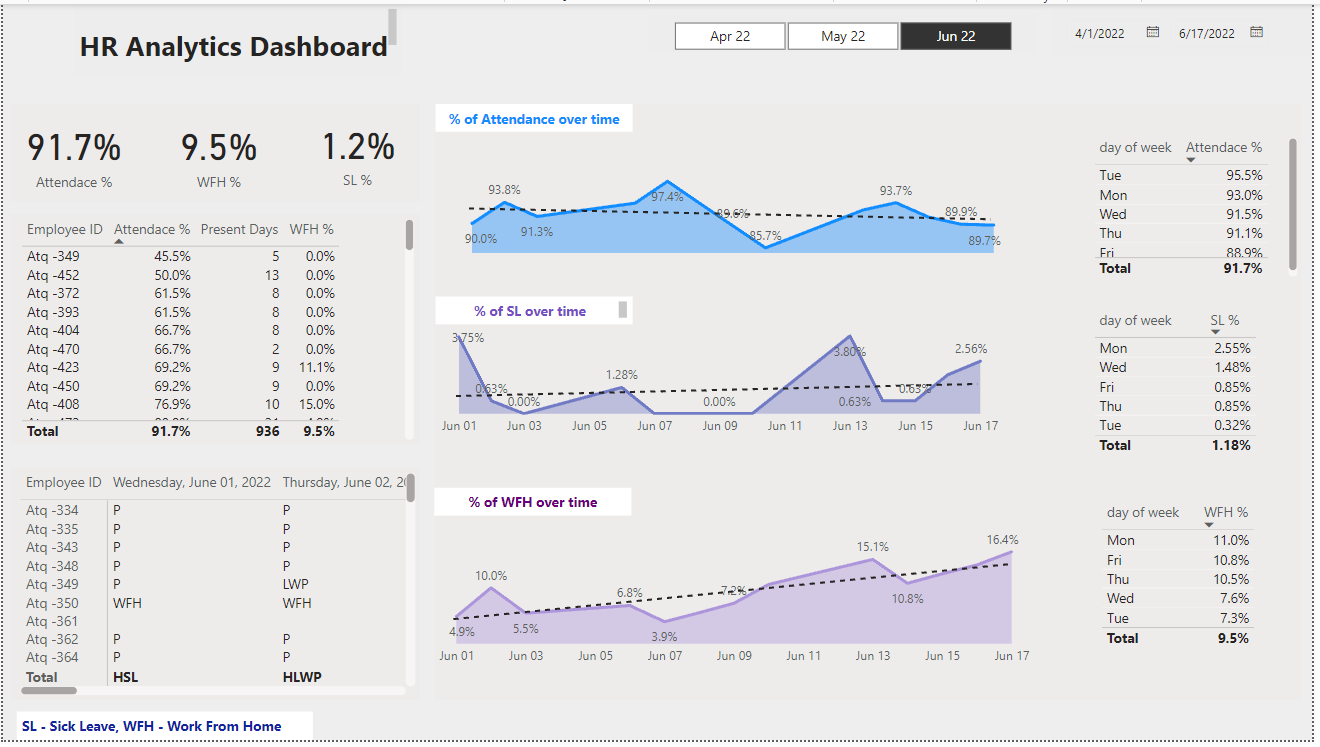

Layout of this report page (visuals, bound fields, positions):
{"tool":"powerbi","page":{"name":"Presence Insights","canvas":[1280,720],"ordinal":0},"visuals":[{"type":"textbox","box":[7.8,205.6,399.9,225.5],"z":0},{"type":"textbox","box":[7.8,453.3,399.8,227.6],"z":1000},{"type":"textbox","box":[422.3,97.9,848.1,582.3],"z":2000},{"type":"textbox","box":[7.8,98,399.9,95.4],"z":3000},{"type":"tableEx","fields":{"Values":["Final Data.Employee ID","Measures (2).Attendace %","Measures (2).Present Days","Measures (2).WFH %"]},"box":[12.6,205.2,394.9,225.7],"z":4000},{"type":"slicer","fields":{"Values":["Final Data.Date"]},"box":[1027.3,5.2,252.7,46.3],"z":5000},{"type":"slicer","fields":{"Values":["Final Data.MMM YY"]},"box":[630.4,10.5,379.5,35.8],"z":6000},{"type":"areaChart","fields":{"Category":["Final Data.MMM YY","Final Data.Date"],"Y":["Measures (2).WFH %"]},"box":[420.7,502.3,589,153.5],"z":7000},{"type":"areaChart","fields":{"Category":["Final Data.WeekNo","Final Data.Date"],"Y":["Measures (2).Attendace %"]},"box":[444.1,144.9,540.4,103.2],"z":8000},{"type":"card","fields":{"Values":["Measures (2).Attendace %"]},"box":[7.8,98,124,96.3],"z":9000},{"type":"card","fields":{"Values":["Measures (2).WFH %"]},"box":[141.4,98,138.8,96.3],"z":10000},{"type":"areaChart","fields":{"Category":["Final Data.MMM YY","Final Data.Date"],"Y":["Measures (2).SL %"]},"box":[422.5,307.1,556,124],"z":11000},{"type":"image","box":[0,0,70,71],"z":12000},{"type":"card","fields":{"Values":["Measures (2).SL %"]},"box":[286.3,97.2,121.4,96.3],"z":13000},{"type":"textbox","box":[69.7,0,320.3,70.9],"z":14000},{"type":"textbox","box":[422.4,98.2,192.5,27.5],"z":15000},{"type":"textbox","box":[422.5,286.3,192.6,26.9],"z":16000},{"type":"textbox","box":[422.1,473.7,192.6,27.2],"z":17000},{"type":"pivotTable","fields":{"Rows":["Final Data.Employee ID"],"Columns":["Final Data.Date"],"Values":["Min(Final Data.Value)"]},"box":[11.7,453.3,395.9,227.6],"z":18000},{"type":"textbox","box":[13.6,691.6,289.8,28.2],"z":19000},{"type":"tableEx","fields":{"Values":["Final Data.day of week","Measures (2).Attendace %"]},"box":[1060.9,125.8,209.9,145.7],"z":20000},{"type":"tableEx","fields":{"Values":["Final Data.day of week","Measures (2).SL %"]},"box":[1060.9,294.1,191.7,167.4],"z":21000},{"type":"tableEx","fields":{"Values":["Final Data.day of week","Measures (2).WFH %"]},"box":[1068.7,483.2,170,167.4],"z":22000}]}

Visuals, with their boxes in screenshot pixels (x1, y1, x2, y2), scaled from the page's 1280x720 canvas onto the 1320x747 screenshot:
textbox: box=[8, 213, 420, 447]
textbox: box=[8, 470, 420, 706]
textbox: box=[435, 102, 1310, 706]
textbox: box=[8, 102, 420, 201]
tableEx - Final Data.Employee ID x Measures (2).Attendace %: box=[13, 213, 420, 447]
slicer - Final Data.Date: box=[1059, 5, 1319, 53]
slicer - Final Data.MMM YY: box=[650, 11, 1041, 48]
areaChart - Final Data.MMM YY x Final Data.Date: box=[434, 521, 1041, 680]
areaChart - Final Data.WeekNo x Final Data.Date: box=[458, 150, 1015, 257]
card - Measures (2).Attendace %: box=[8, 102, 136, 202]
card - Measures (2).WFH %: box=[146, 102, 289, 202]
areaChart - Final Data.MMM YY x Final Data.Date: box=[436, 319, 1009, 447]
image: box=[0, 0, 72, 74]
card - Measures (2).SL %: box=[295, 101, 420, 201]
textbox: box=[72, 0, 402, 74]
textbox: box=[436, 102, 634, 130]
textbox: box=[436, 297, 634, 325]
textbox: box=[435, 491, 634, 520]
pivotTable - Final Data.Employee ID x Final Data.Date: box=[12, 470, 420, 706]
textbox: box=[14, 718, 313, 746]
tableEx - Final Data.day of week x Measures (2).Attendace %: box=[1094, 131, 1311, 282]
tableEx - Final Data.day of week x Measures (2).SL %: box=[1094, 305, 1292, 479]
tableEx - Final Data.day of week x Measures (2).WFH %: box=[1102, 501, 1277, 675]
